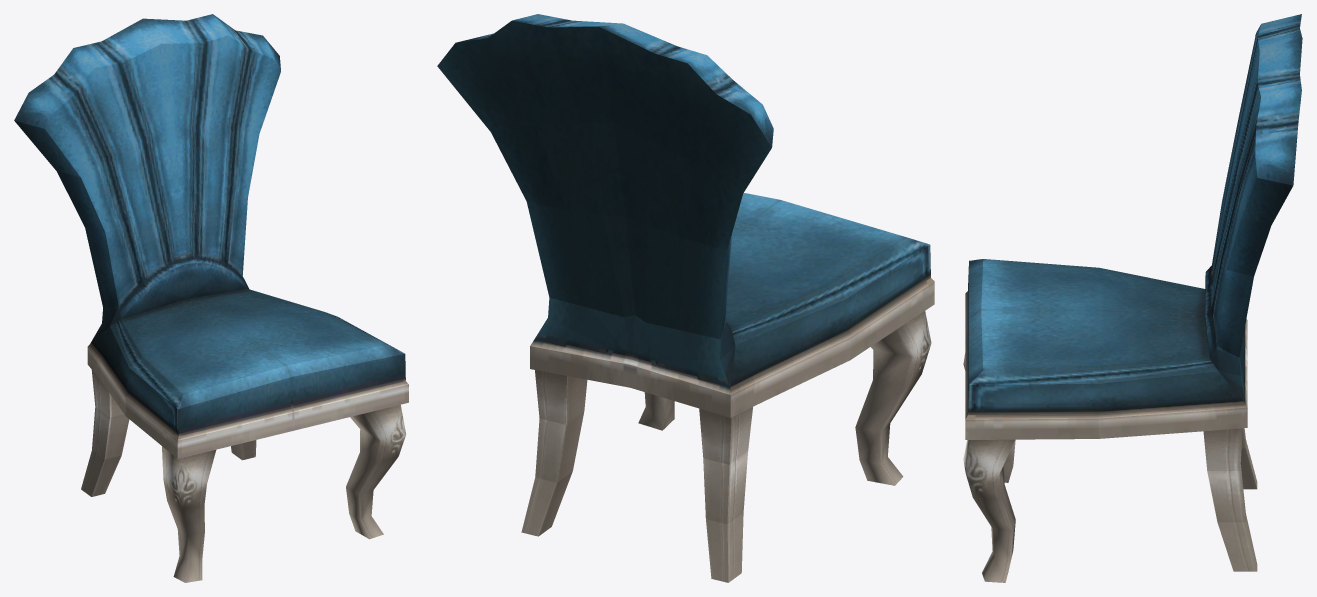
The model's file is furni_0201112_03.FBX.
The picture shows the model from 3 angles, left to right: view 1: azimuth 30°, elevation 25°; view 2: azimuth 150°, elevation 25°; view 3: azimuth 270°, elevation 25°; orthographic projection. The views are drawn at different scales.
Visible parts, largest first — view 1: furni_0201112_03; view 2: furni_0201112_03; view 3: furni_0201112_03.
Boxes of the visible parts, x1,y1,x2,y2 form: furni_0201112_03: (14,14,408,582); furni_0201112_03: (437,14,934,582); furni_0201112_03: (963,14,1302,582).
Bounding box in the file's own units: 71.5 × 112 × 70.55.
Materials: 1 (1 with a texture image).
